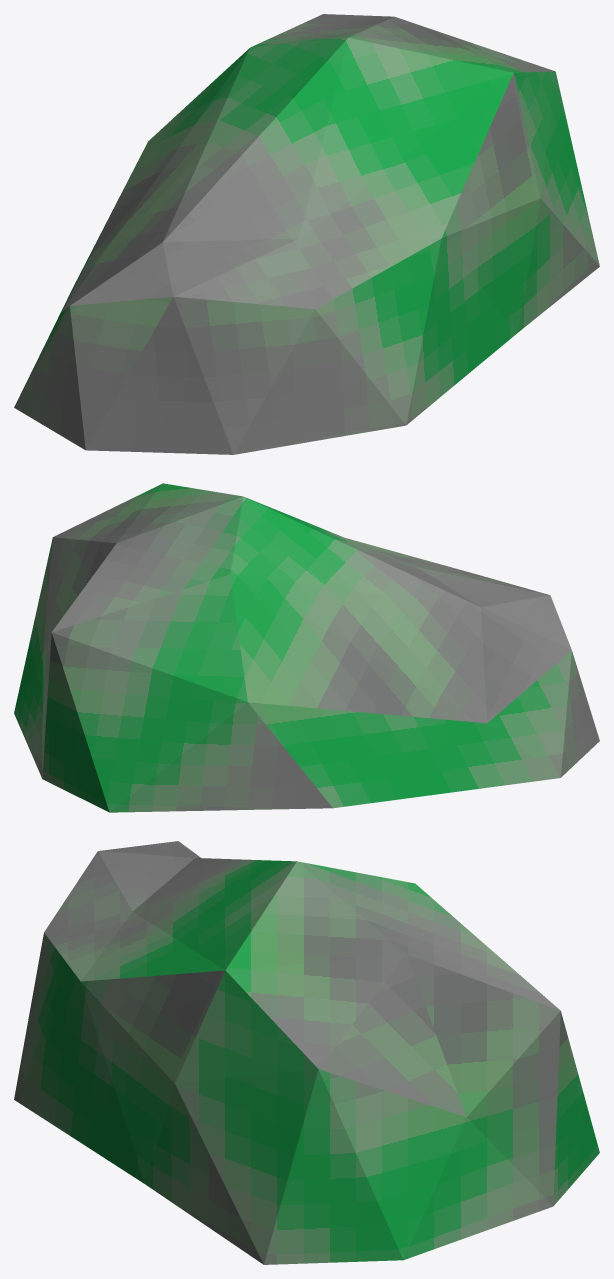
The model's file is roca_petita.glb.
3 views of the same model, one above another, from view 1: azimuth 30°, elevation 25°; view 2: azimuth 150°, elevation 25°; view 3: azimuth 270°, elevation 25° (orthographic). The views are drawn at different scales.
Visible parts, largest first — view 1: Roca-3; view 2: Roca-3; view 3: Roca-3.
Boxes of the visible parts, x1,y1,x2,y2 form: Roca-3: (14,14,599,454); Roca-3: (14,483,599,812); Roca-3: (14,841,599,1264).
Size of the model in its own units: 1.33 by 0.5924 by 1.1.
Materials: 1 (1 with a texture image).
